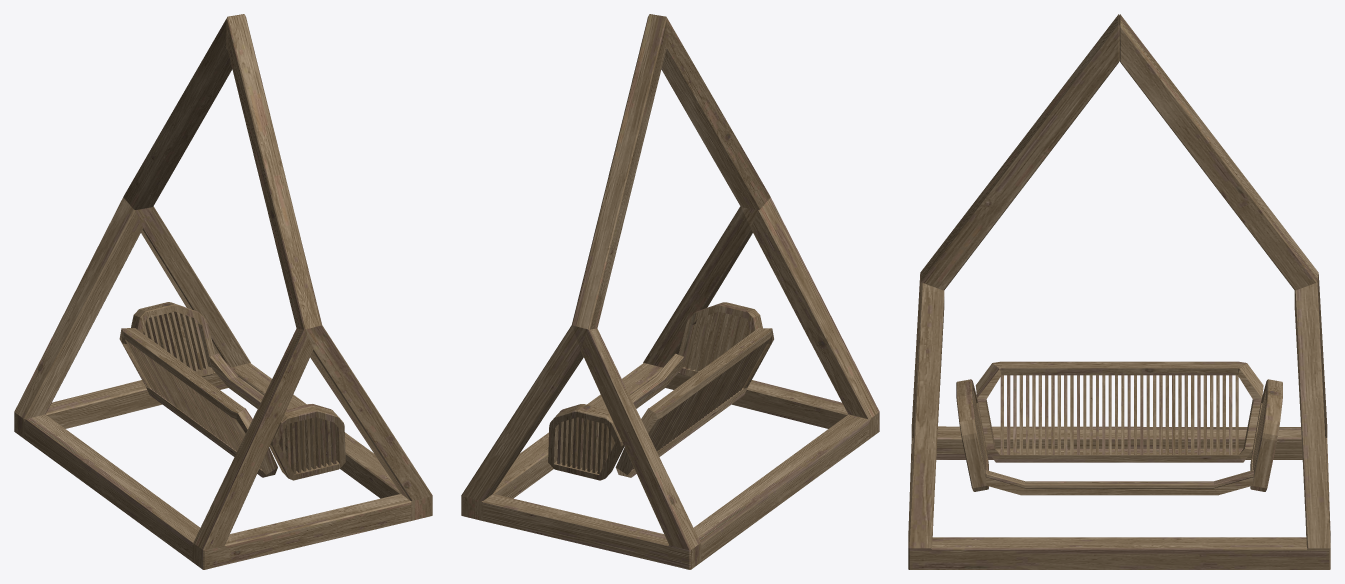
File: hammockKDefoult1.gltf
The picture shows the model from 3 angles, left to right: view 1: azimuth 30°, elevation 25°; view 2: azimuth 150°, elevation 25°; view 3: azimuth 270°, elevation 25°; orthographic projection. The views are drawn at different scales.
Parts seen in each view (by area): view 1: hammockKDefoult1; view 2: hammockKDefoult1; view 3: hammockKDefoult1.
Part boxes in pixels (box(x1,y1,x2,y2)): hammockKDefoult1: box(14, 14, 432, 569); hammockKDefoult1: box(461, 14, 879, 569); hammockKDefoult1: box(908, 14, 1330, 569).
Size of the model in its own units: 3.64 by 6.92 by 5.33.
Materials: 1 (1 with a texture image).
